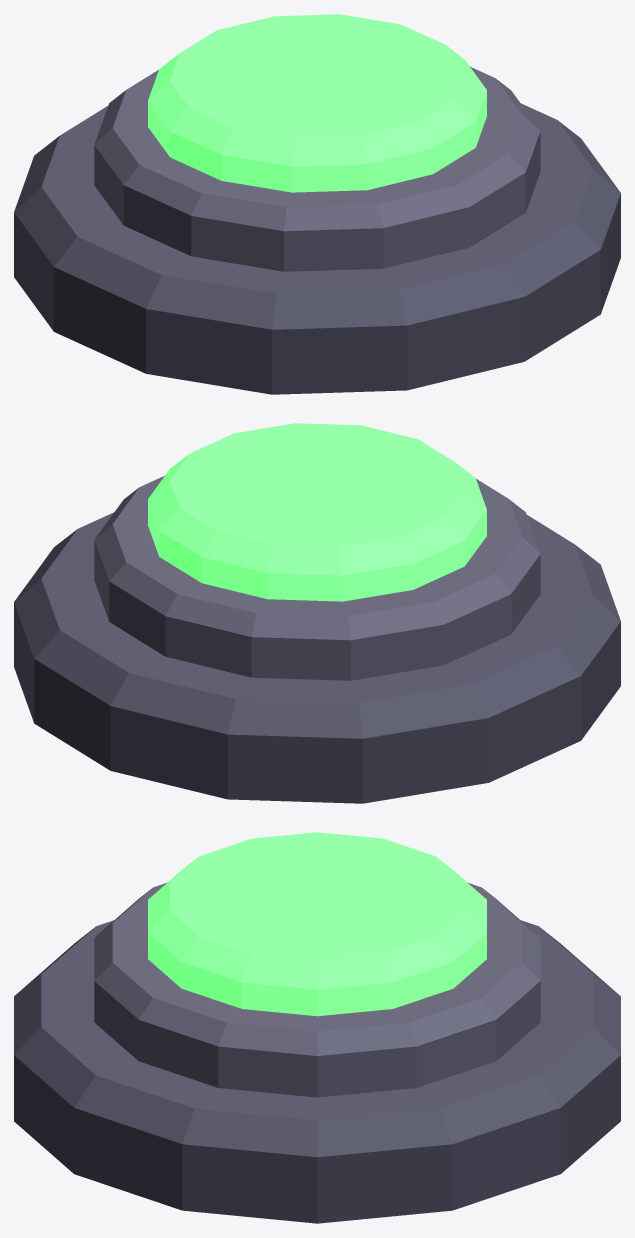
File: CollectButton.glb
The picture shows the model from 3 angles, top to bottom: view 1: azimuth 30°, elevation 25°; view 2: azimuth 150°, elevation 25°; view 3: azimuth 270°, elevation 25°; orthographic projection. The views are drawn at different scales.
Parts seen in each view (by area): view 1: CollectButton, CollectButton_Glow_button; view 2: CollectButton, CollectButton_Glow_button; view 3: CollectButton, CollectButton_Glow_button.
Boxes of the visible parts, <box> form: CollectButton: <box>14,66,620,394</box>; CollectButton_Glow_button: <box>148,14,486,192</box>; CollectButton: <box>14,475,620,803</box>; CollectButton_Glow_button: <box>148,423,486,601</box>; CollectButton: <box>14,883,620,1223</box>; CollectButton_Glow_button: <box>148,832,486,1016</box>.
Size of the model in its own units: 3.4 by 1.18 by 3.31.
Materials: 2 (1 with a texture image).
